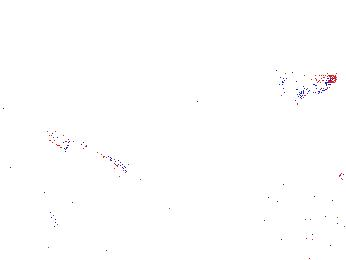glassfish: (39, 127, 143, 198)
red belly glassfish: (318, 39, 340, 61)
redtail glassfish: (262, 71, 340, 97)
